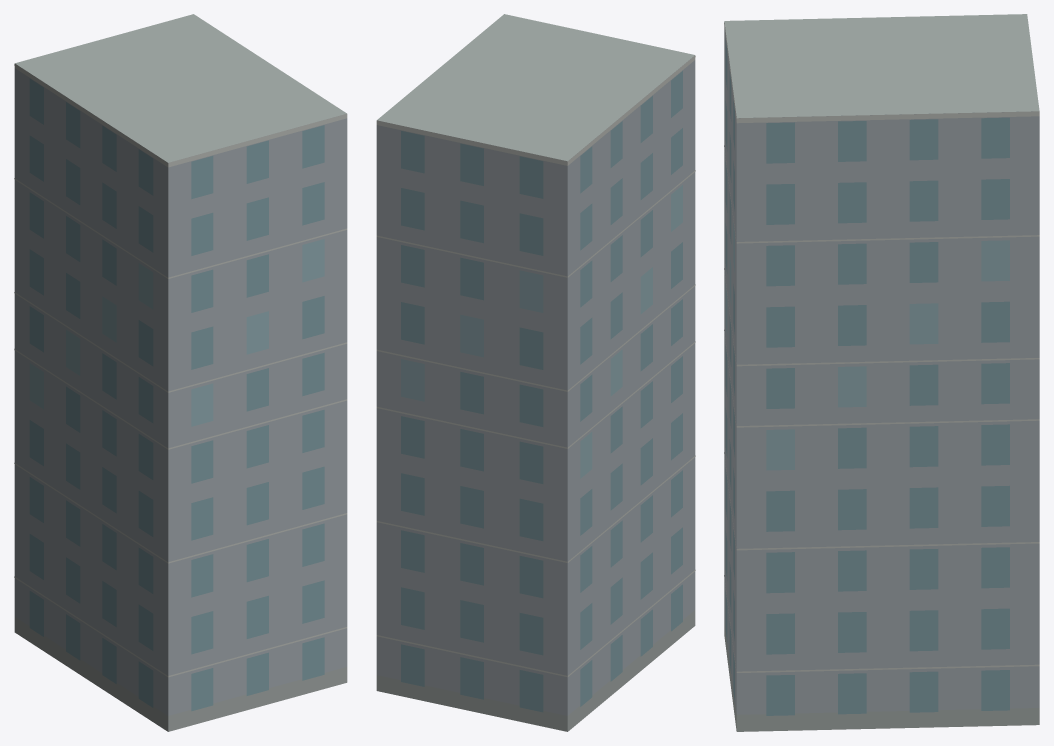
Rendered from survey-upis-32677221.glb.
The picture shows the model from 3 angles, left to right: view 1: azimuth 30°, elevation 25°; view 2: azimuth 150°, elevation 25°; view 3: azimuth 270°, elevation 25°; orthographic projection. The views are drawn at different scales.
Parts seen in each view (by area): view 1: survey-upis-32677221.tmp; view 2: survey-upis-32677221.tmp; view 3: survey-upis-32677221.tmp.
Part boxes in pixels (bbox=[...]): survey-upis-32677221.tmp: bbox=[14, 14, 347, 731]; survey-upis-32677221.tmp: bbox=[376, 14, 695, 731]; survey-upis-32677221.tmp: bbox=[724, 14, 1039, 731].
Bounding box in the file's own units: 10.87 × 29.8 × 13.9.
